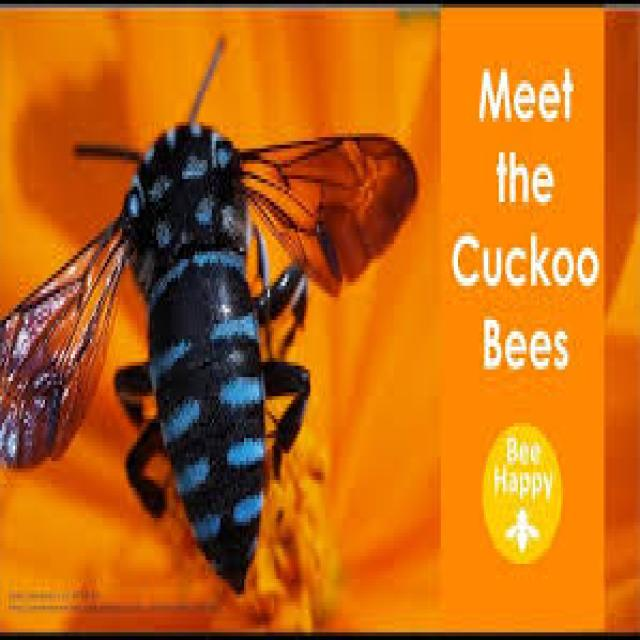Thyreus: (8, 32, 396, 614)
